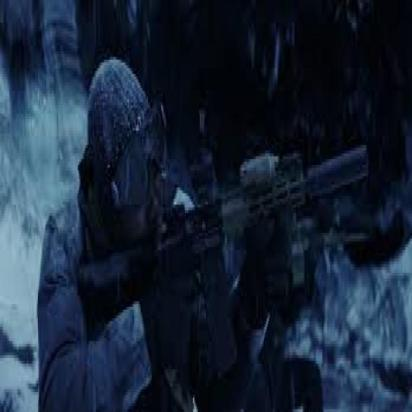Gun: (79, 141, 377, 374)
